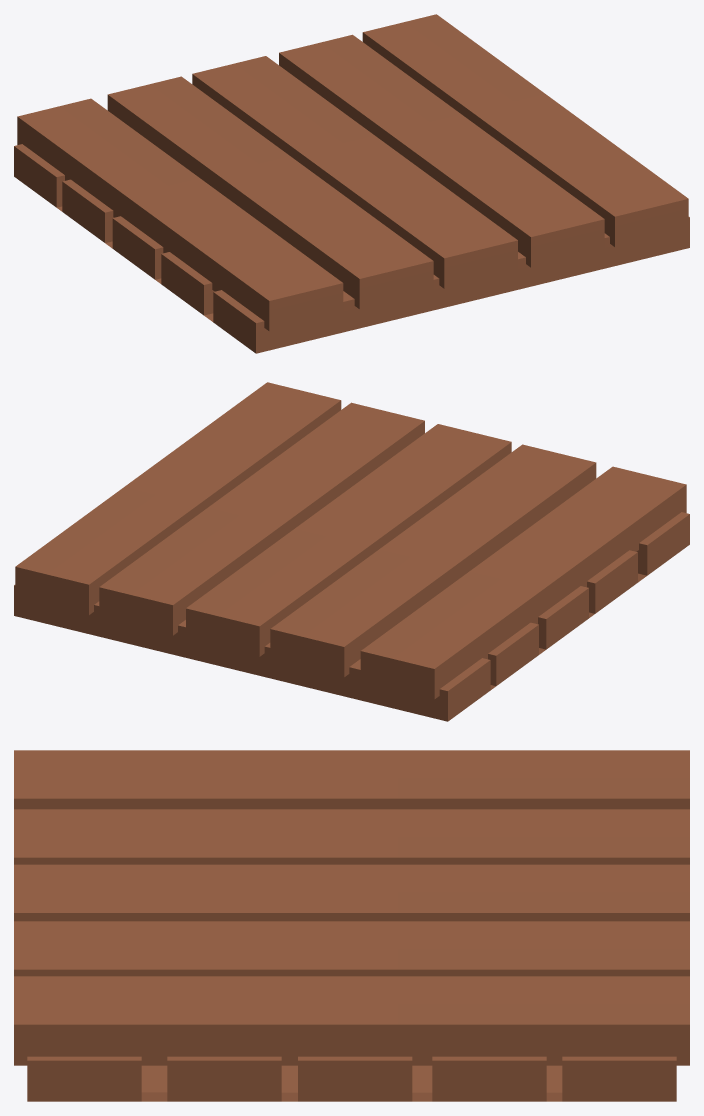
Rendered from Wood_Floor.fbx.
The picture shows the model from 3 angles, top to bottom: view 1: azimuth 30°, elevation 25°; view 2: azimuth 150°, elevation 25°; view 3: azimuth 270°, elevation 25°; orthographic projection. The views are drawn at different scales.
Parts seen in each view (by area): view 1: woodWallwithDoor.001; view 2: woodWallwithDoor.001; view 3: woodWallwithDoor.001.
Boxes of the visible parts, x1,y1,x2,y2 form: woodWallwithDoor.001: (14,14,689,353); woodWallwithDoor.001: (14,382,689,721); woodWallwithDoor.001: (14,750,689,1101).
Bounding box in the file's own units: 10.89 × 1.44 × 10.96.
